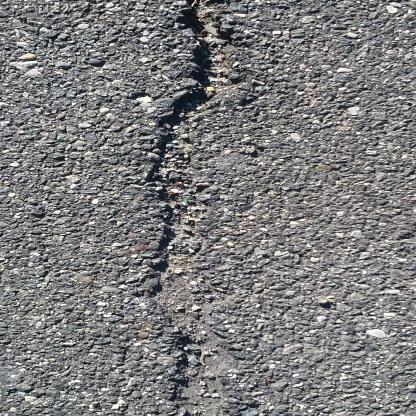Cracks: (132, 0, 235, 416)
